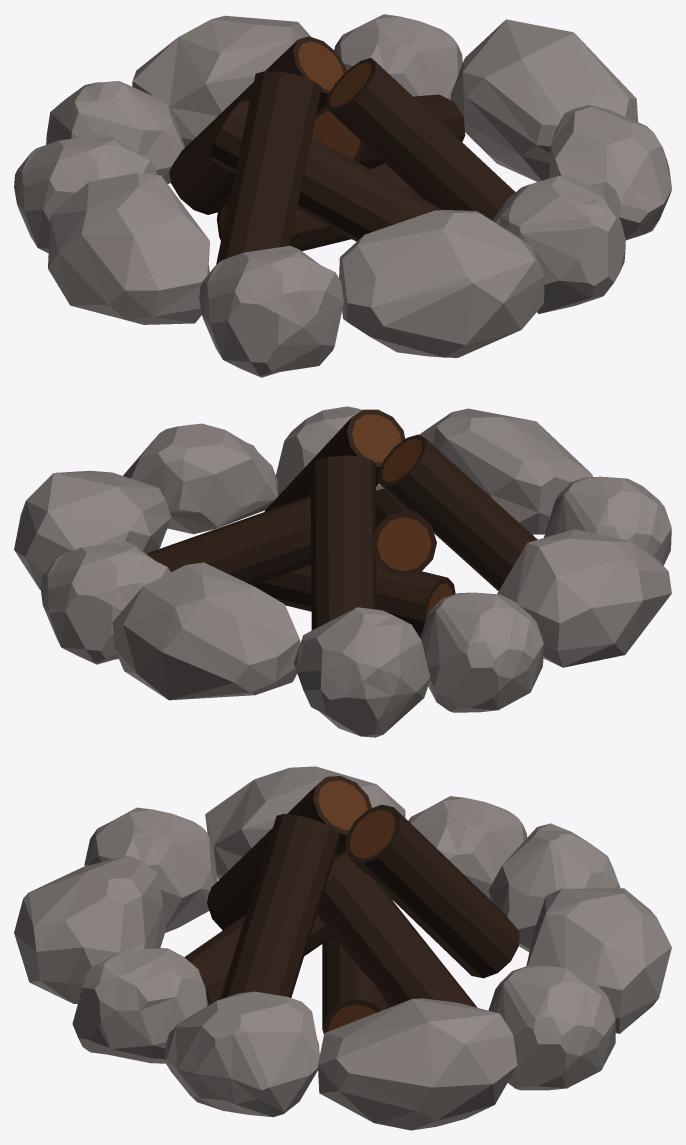
The model's file is campfire.fbx.
3 views of the same model, one above another, from view 1: azimuth 30°, elevation 25°; view 2: azimuth 150°, elevation 25°; view 3: azimuth 270°, elevation 25° (orthographic). The views are drawn at different scales.
Parts seen in each view (by area): view 1: campfire; view 2: campfire; view 3: campfire.
Boxes of the visible parts, box(x1,y1,x2,y2) form: campfire: box(14, 14, 671, 377); campfire: box(14, 406, 671, 737); campfire: box(14, 766, 671, 1130).
Bounding box in the file's own units: 185 × 61.21 × 179.
